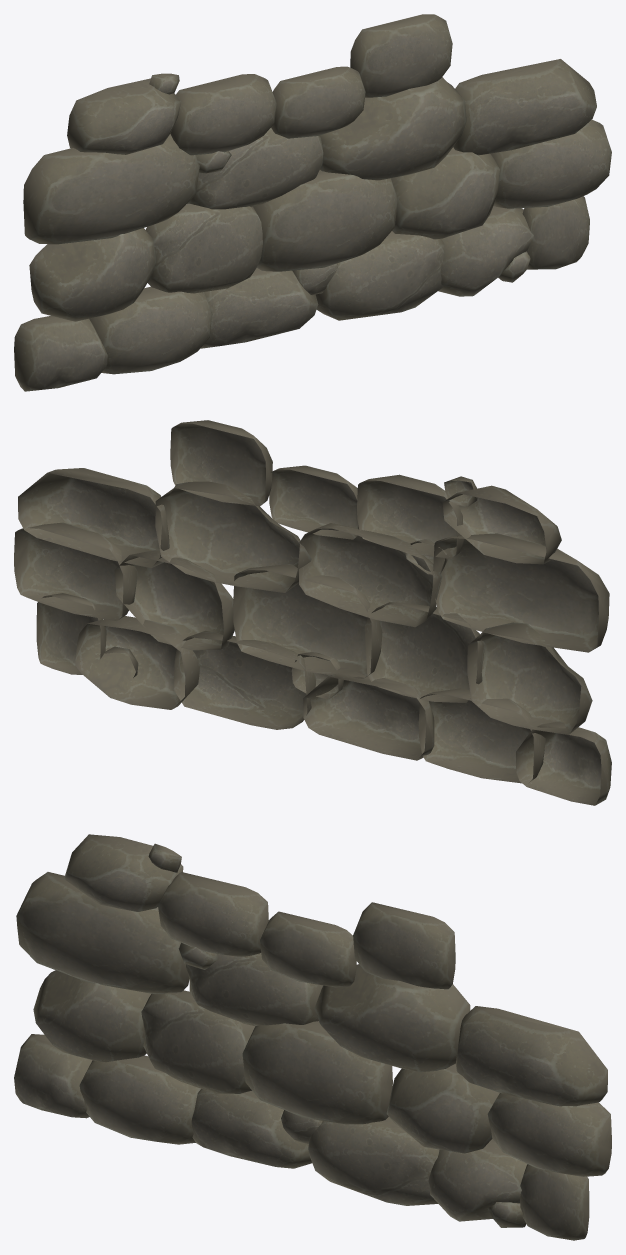
Rendered from MSH_fwOF_Ruins_Wall_Bricks_07.fbx.
3 renders of one model, top to bottom at view 1: azimuth 30°, elevation 25°; view 2: azimuth 150°, elevation 25°; view 3: azimuth 330°, elevation 25°, orthographic.
Visible parts, largest first — view 1: MSH_fwOF_Ruins_Wall_Bricks_07; view 2: MSH_fwOF_Ruins_Wall_Bricks_07; view 3: MSH_fwOF_Ruins_Wall_Bricks_07.
Part boxes in pixels (box(x1,y1,x2,y2)): MSH_fwOF_Ruins_Wall_Bricks_07: box(14, 14, 611, 391); MSH_fwOF_Ruins_Wall_Bricks_07: box(14, 420, 611, 805); MSH_fwOF_Ruins_Wall_Bricks_07: box(14, 834, 611, 1240).
Bounding box in the file's own units: 4.2 × 2.01 × 0.3695.
